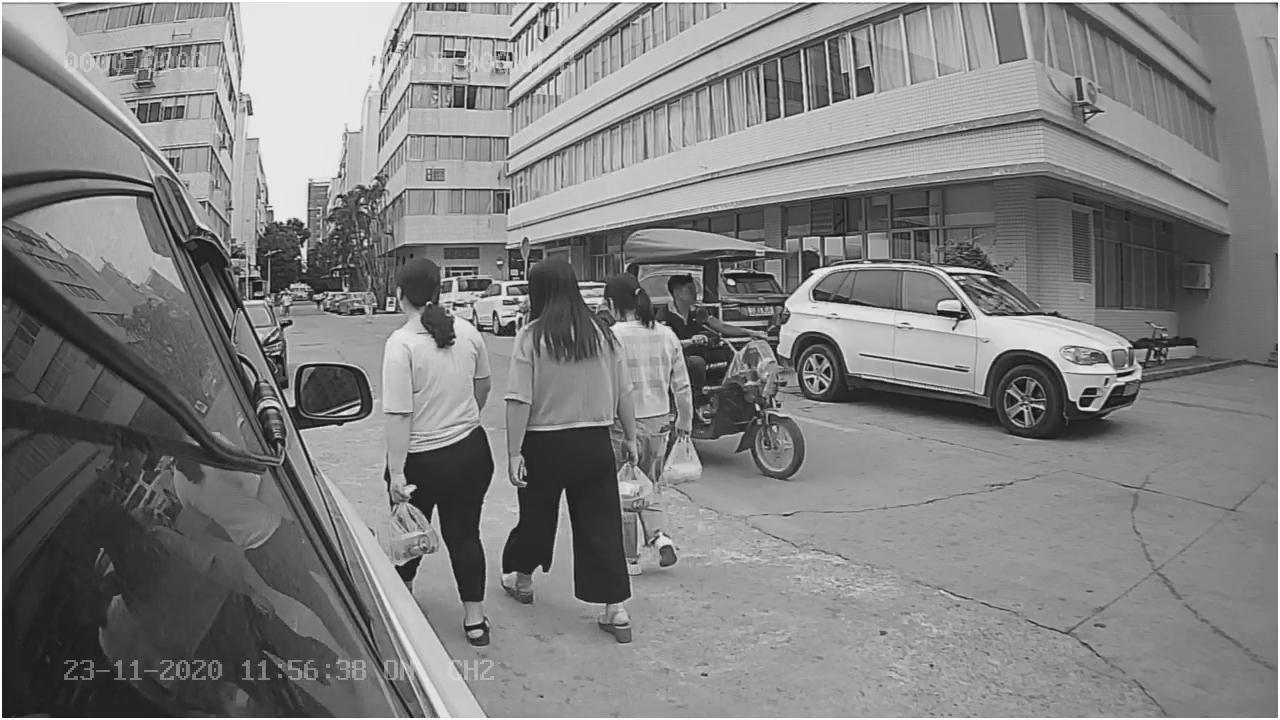person: (362, 249, 502, 652), (497, 260, 642, 646)
